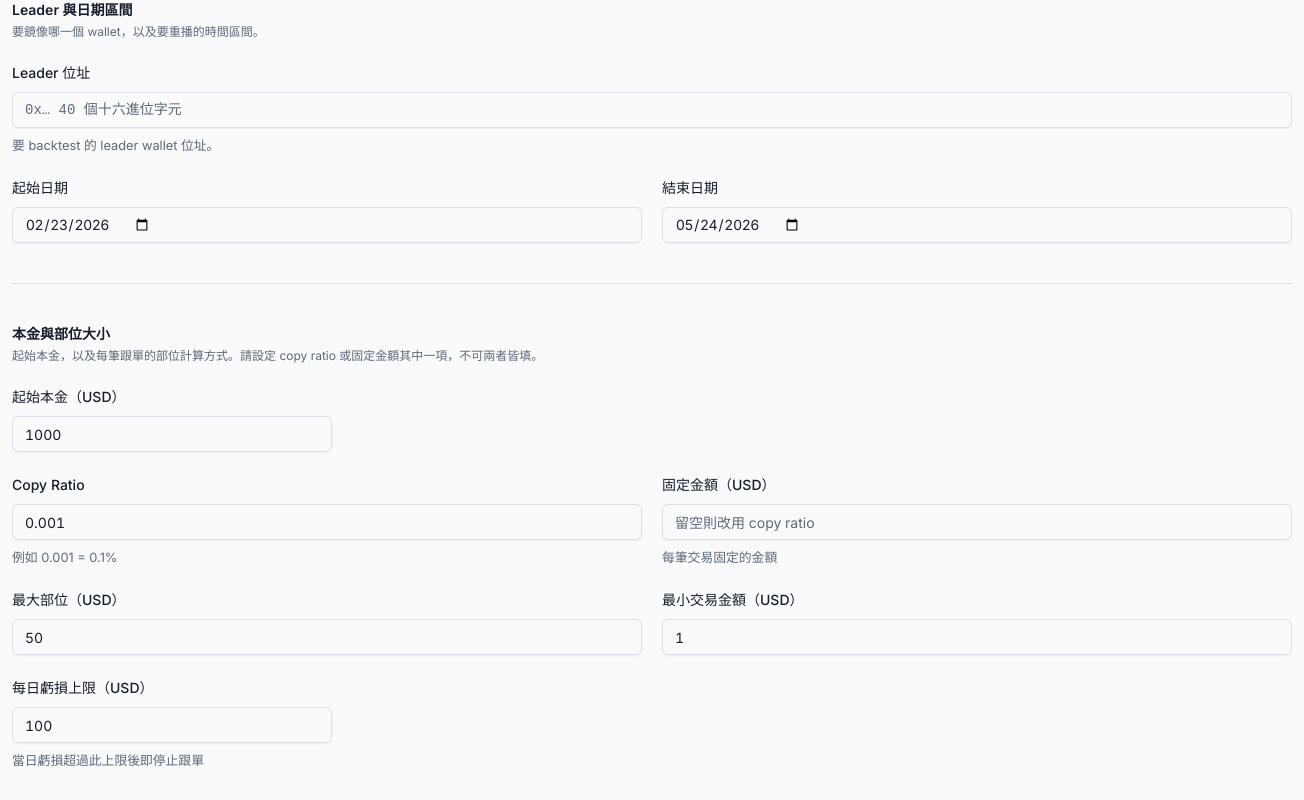
Test: BacktestForm (zod validation + server action) › enforces the 0x-hex regex on the wallet address
Type "1234567890abcdef" into the field labelled "Leader 位址". click: (652,110)
box: [12, 92, 1292, 128]
(page scrolled)
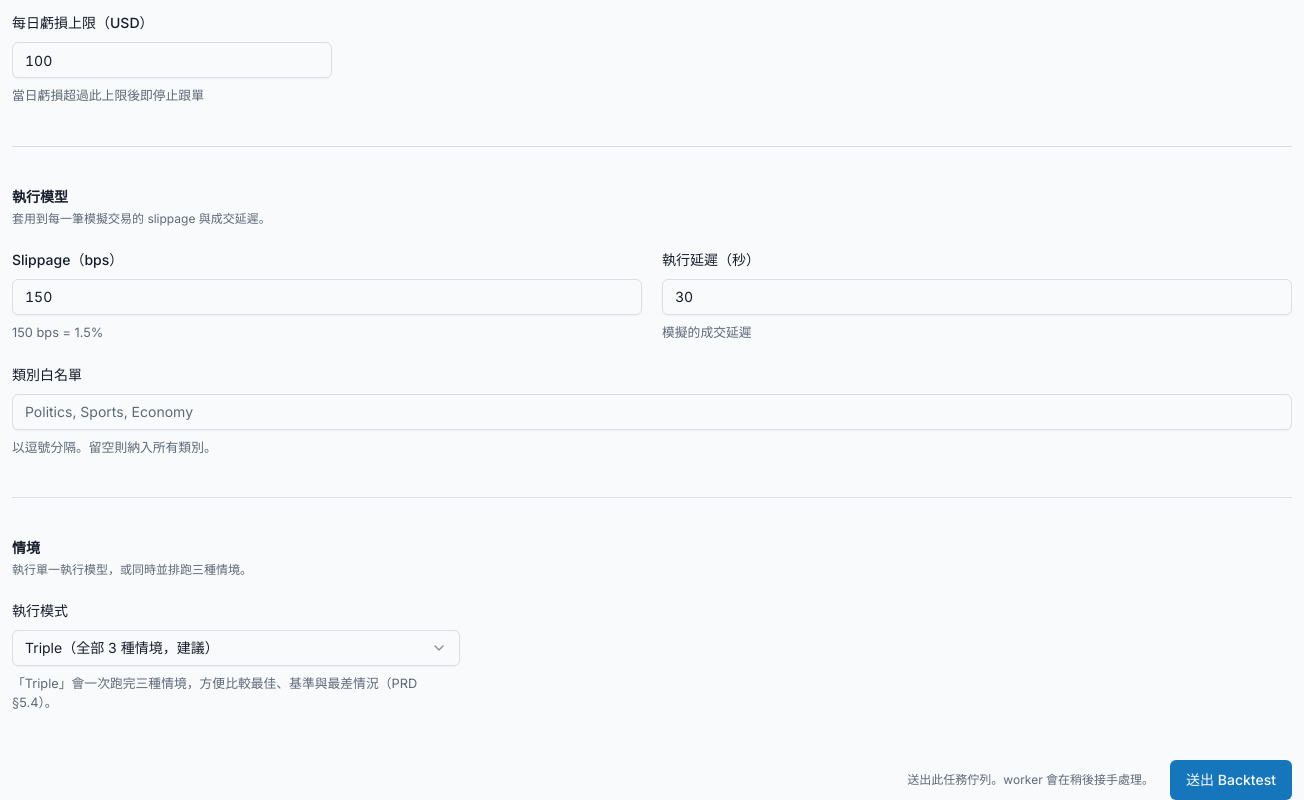
Click the button "送出 Backtest". click: (1231,780)
box: [1170, 760, 1292, 799]
(page scrolled)
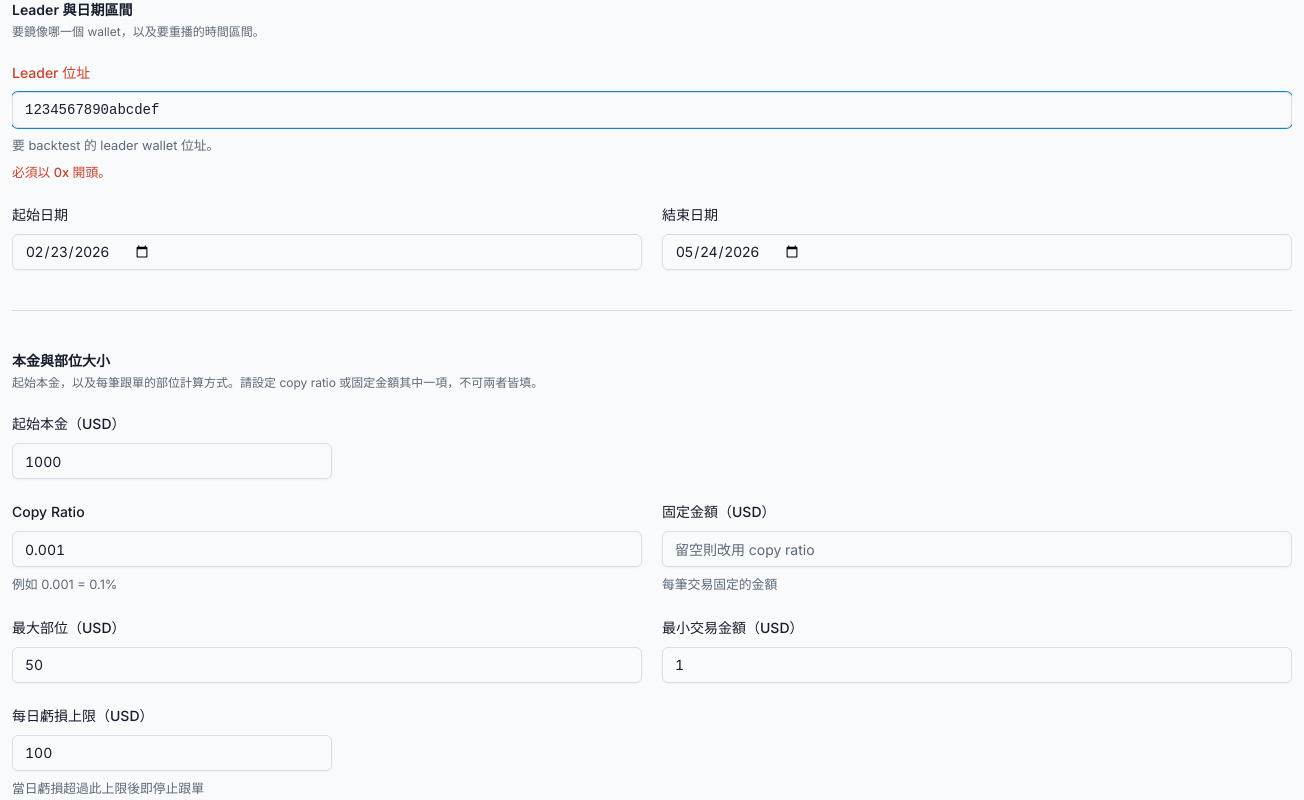
Check: the text "必須以 0x 開頭。" is shown, box [12, 165, 111, 180]
